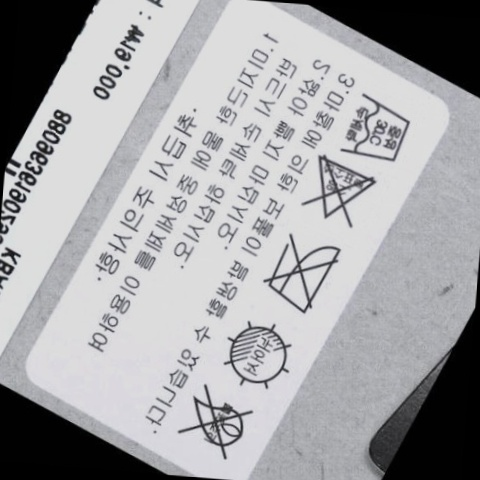DN_bleach: (306, 152, 376, 232)
DN_iron: (258, 221, 339, 317)
dry_flat_in_shade: (217, 315, 293, 388)
hand_wash: (338, 91, 411, 163)
